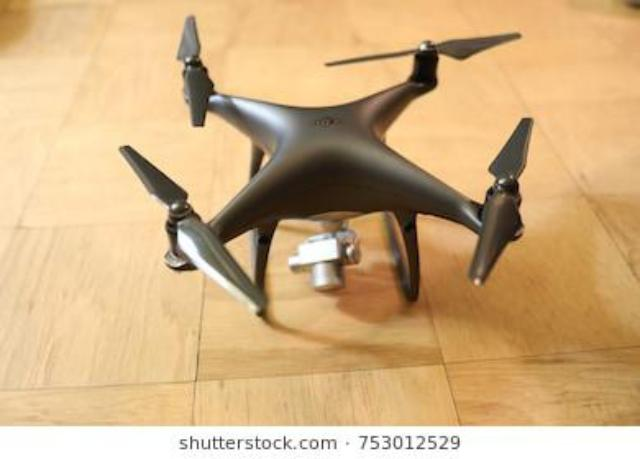drone: (0, 1, 640, 358)
